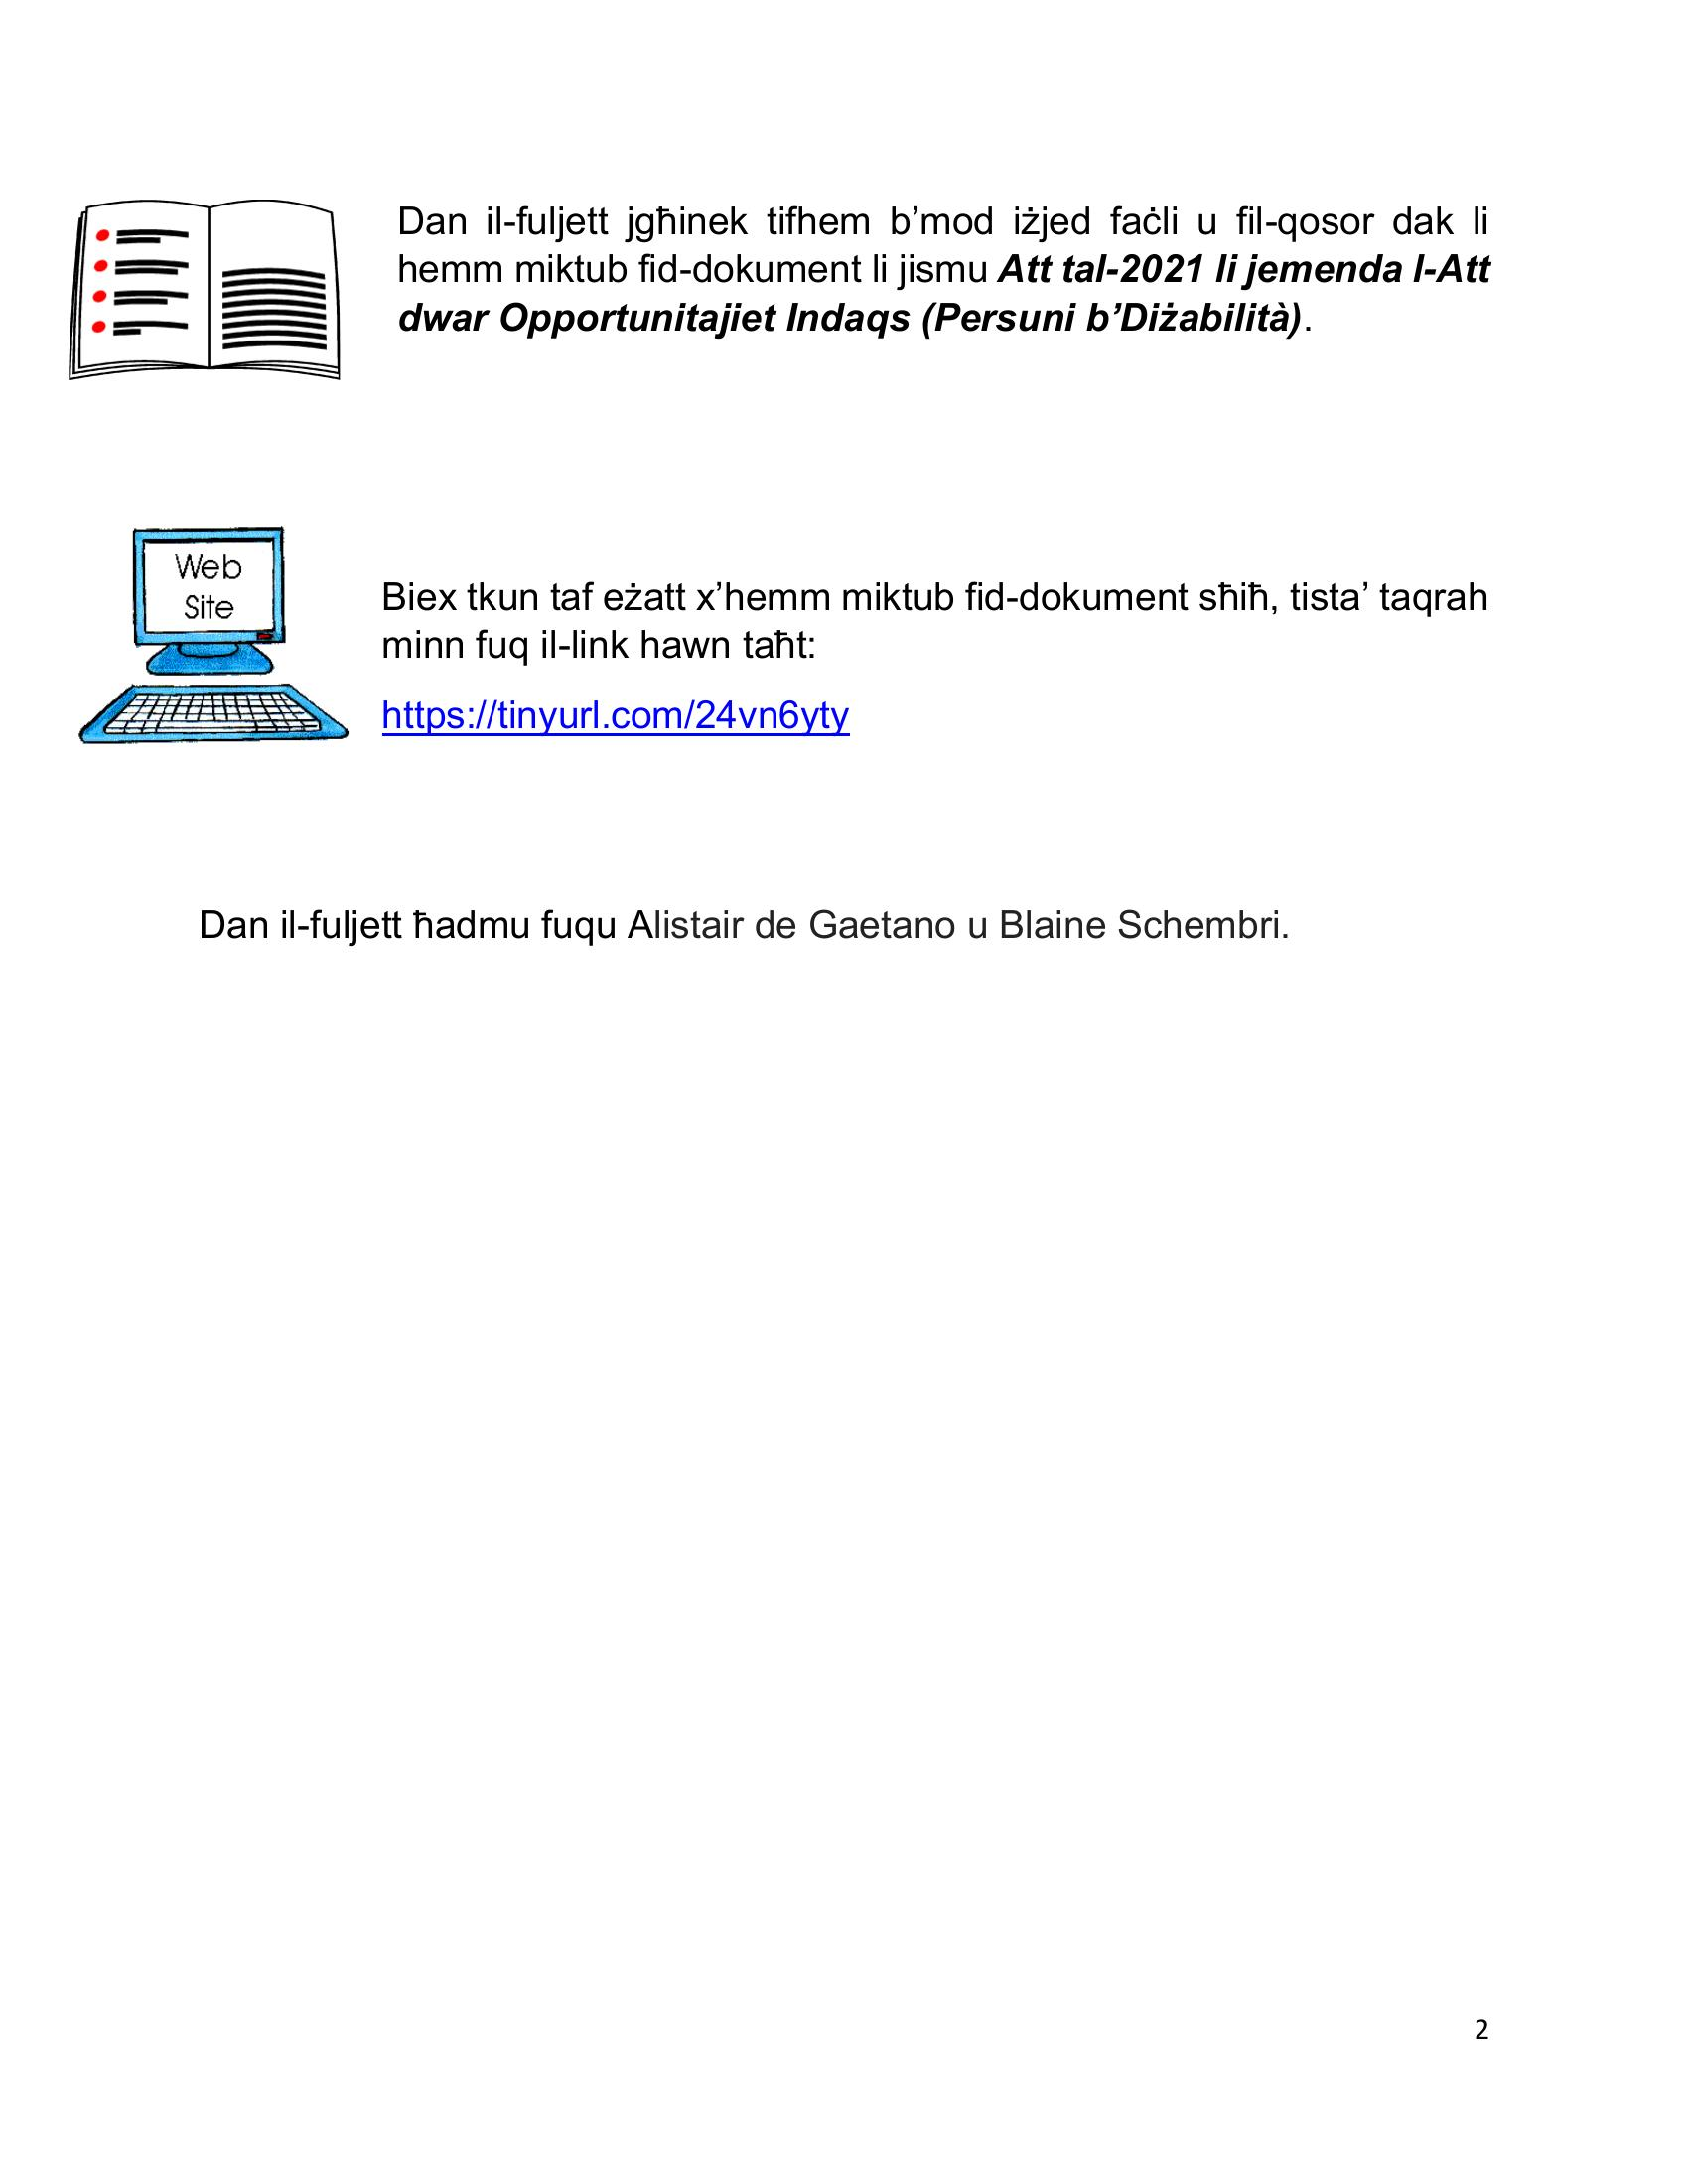text: (365, 541, 1504, 794), (177, 870, 1298, 980)
